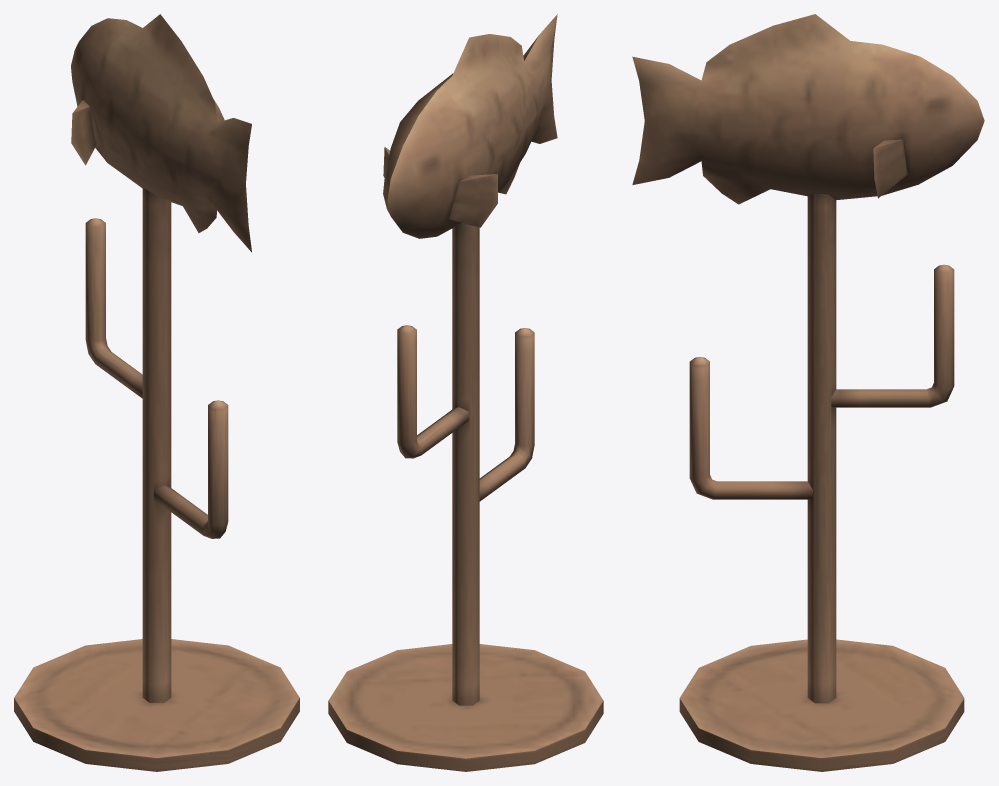
The model's file is Map_Furniture_083.fbx.
3 views of the same model, side by side, from view 1: azimuth 30°, elevation 25°; view 2: azimuth 150°, elevation 25°; view 3: azimuth 270°, elevation 25° (orthographic). The views are drawn at different scales.
Parts seen in each view (by area): view 1: Map_Furniture_083; view 2: Map_Furniture_083; view 3: Map_Furniture_083.
Boxes of the visible parts, x1=… form: Map_Furniture_083: x1=14, y1=14, x2=299, y2=771; Map_Furniture_083: x1=328, y1=14, x2=603, y2=771; Map_Furniture_083: x1=632, y1=14, x2=984, y2=771.
Bounding box in the file's own units: 0.28 × 0.757 × 0.3465.
Materials: 1 (1 with a texture image).
